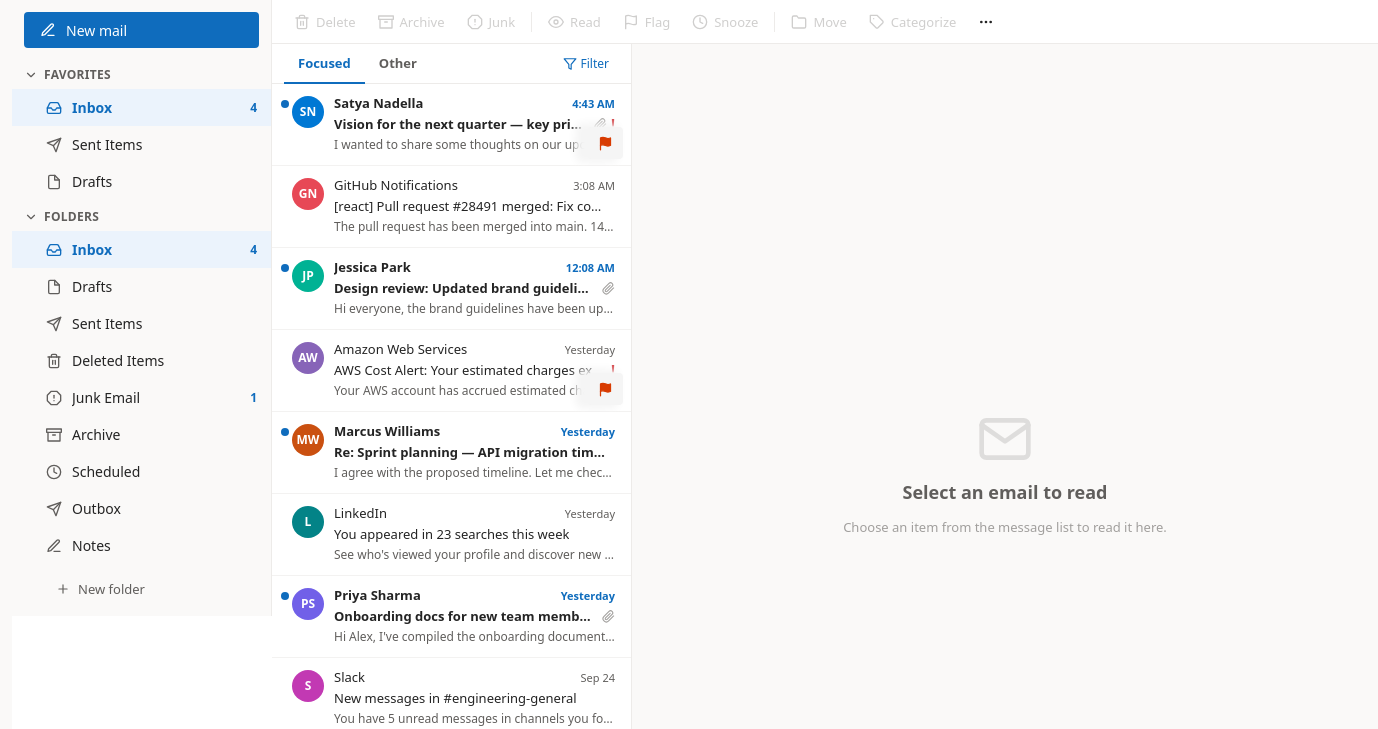
Test case: Mail Component › can open compose window
Click the button "New mail" at [142, 30], box top-left (24, 12), bottom-right (259, 48)
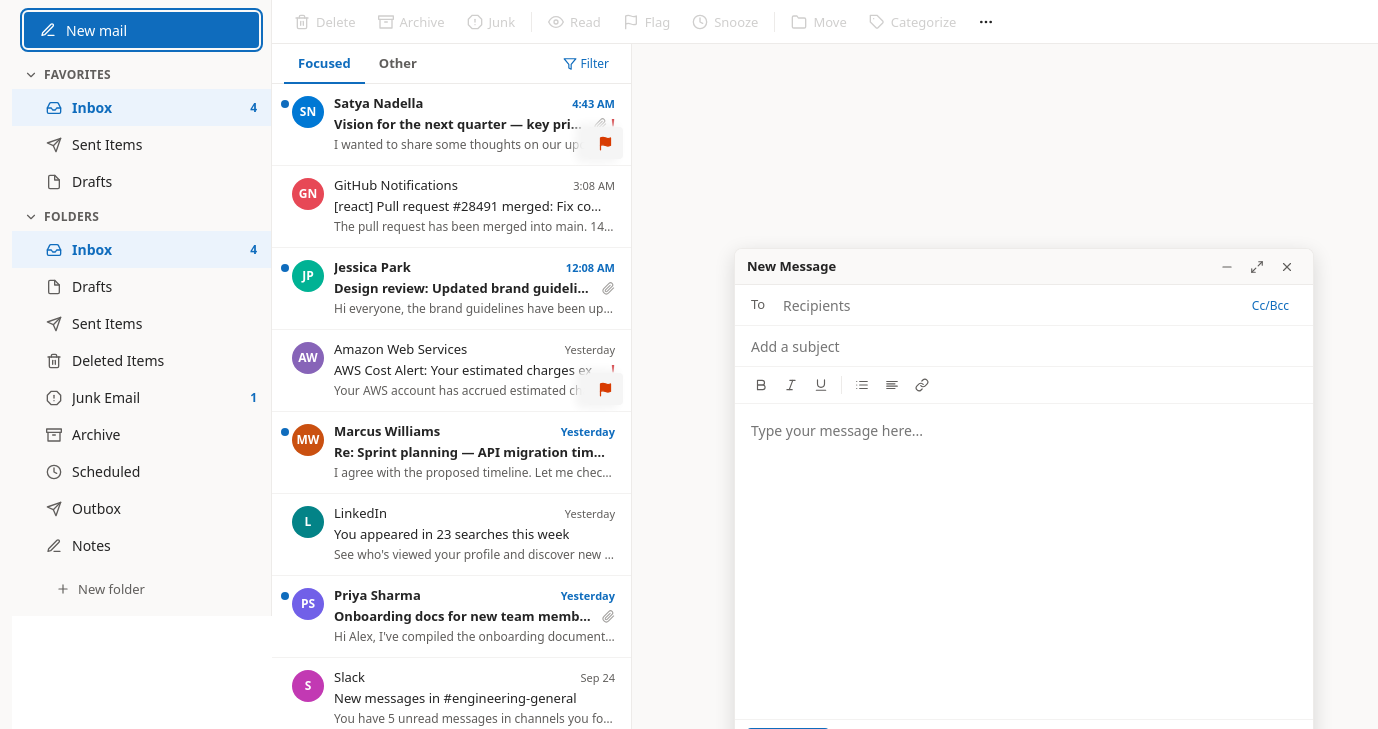
Check: the field with placeholder "Recipients" is shown, box top-left (783, 291), bottom-right (1244, 319)
